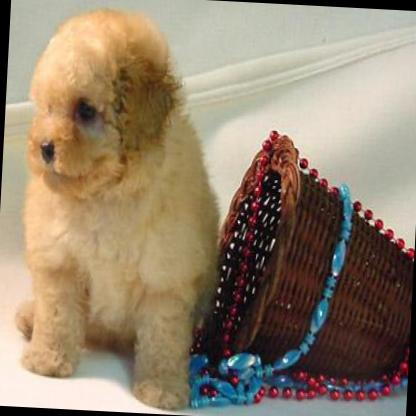miniature_poodle: (6, 4, 235, 410)
